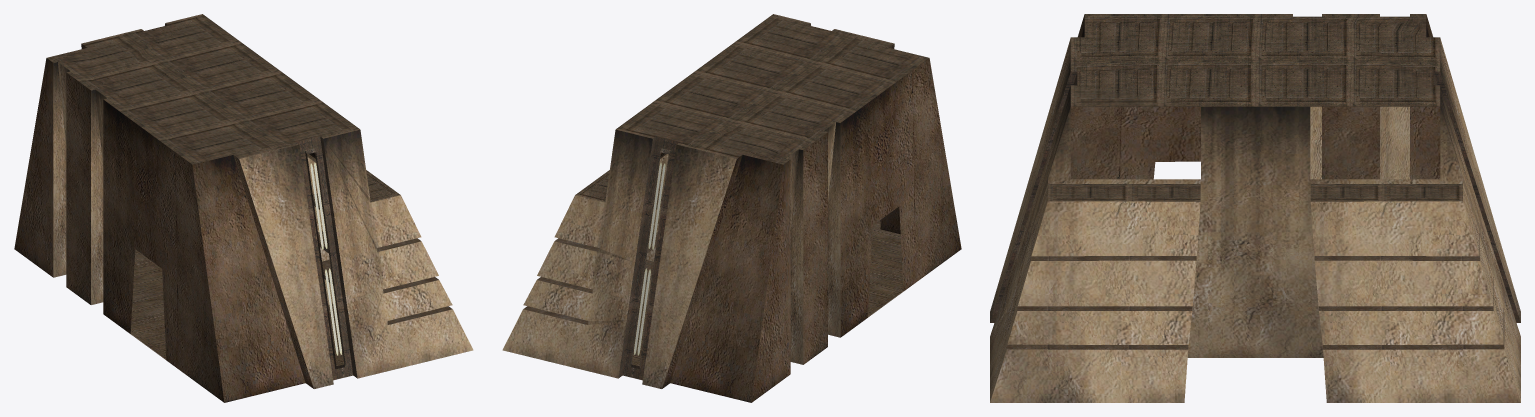
File: thm_tato_fort_tusken_r23_mesh_r23.fbx
3 views of the same model, side by side, from view 1: azimuth 30°, elevation 25°; view 2: azimuth 150°, elevation 25°; view 3: azimuth 270°, elevation 25° (orthographic). The views are drawn at different scales.
Visible parts, largest first — view 1: mesh_node; view 2: mesh_node; view 3: mesh_node.
Boxes of the visible parts, x1,y1,x2,y2 form: mesh_node: [14, 14, 473, 402]; mesh_node: [502, 14, 961, 402]; mesh_node: [990, 14, 1520, 402].
Size of the model in its own units: 8.08 by 6.88 by 13.17.
